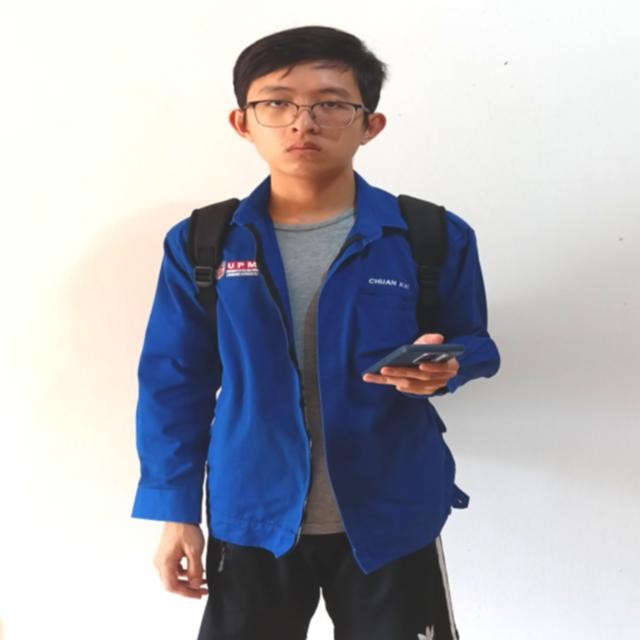person_with_labcoat: (132, 27, 500, 640)
